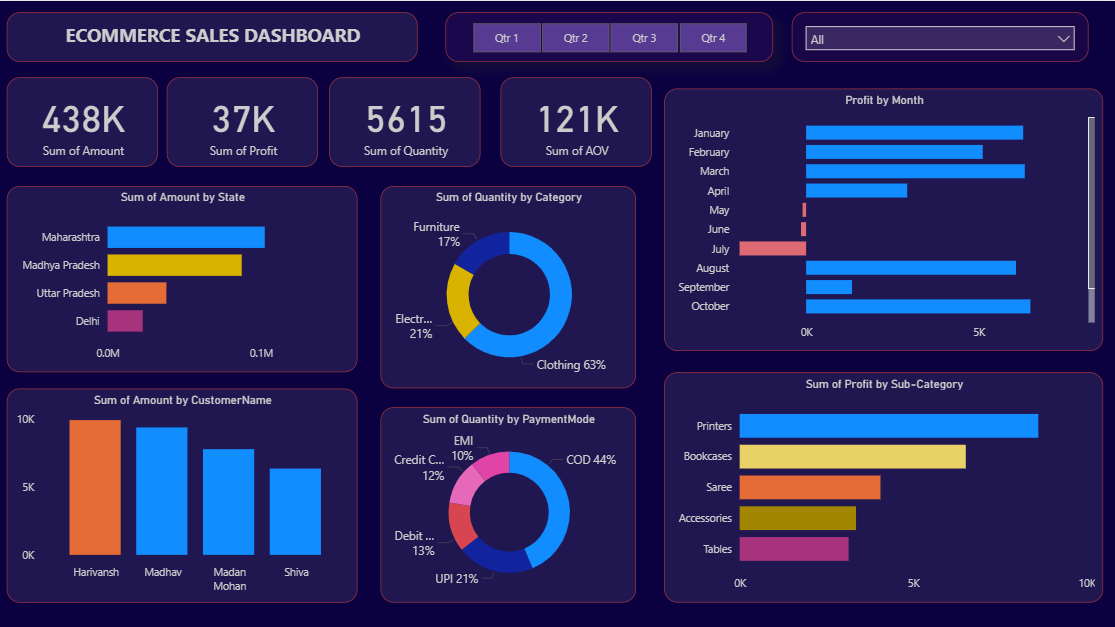

Layout of this report page (visuals, bound fields, positions):
{"tool":"powerbi","page":{"name":"Page 1","canvas":[1280,720],"ordinal":0},"visuals":[{"type":"textbox","box":[10.1,13.4,469.7,57],"z":0},{"type":"clusteredBarChart","title":"Profit by Month","fields":{"Category":["Orders.Order Date.Variation.Date Hierarchy.Month"],"Y":["Details.Profit"]},"box":[761.6,100.7,501.6,300.3],"z":1000},{"type":"barChart","fields":{"Category":["Details.Sub-Category"],"Y":["Details.Profit"]},"box":[761.6,424.4,501.6,263.4],"z":2000},{"type":"donutChart","fields":{"Category":["Details.Category"],"Y":["Details.Quantity"]},"box":[437.9,211.4,291.9,231.5],"z":3000},{"type":"donutChart","fields":{"Y":["Details.Quantity"],"Category":["Details.PaymentMode"]},"box":[437.9,464.7,291.9,223.1],"z":4000},{"type":"card","fields":{"Values":["Details.Amount"]},"box":[10.1,87.2,172.8,102.3],"z":5000},{"type":"card","fields":{"Values":["Details.Profit"]},"box":[192.9,87.2,172.8,102.3],"z":6000},{"type":"card","fields":{"Values":["Details.Quantity"]},"box":[379.1,87.2,172.8,102.3],"z":7000},{"type":"card","fields":{"Values":["Details.AOV"]},"box":[573.7,87.2,172.8,102.3],"z":8000},{"type":"barChart","fields":{"Category":["Orders.State"],"Y":["Details.Amount"]},"box":[10.1,211.4,400.9,213.1],"z":9000},{"type":"columnChart","fields":{"Category":["Orders.CustomerName"],"Y":["Details.Amount"]},"box":[10.1,442.9,400.9,244.9],"z":10000},{"type":"slicer","fields":{"Values":["Orders.Order Date.Variation.Date Hierarchy.Quarter"]},"box":[511.7,13.4,374.1,57],"z":11000},{"type":"slicer","fields":{"Values":["Orders.State"]},"box":[907.6,13.4,338.9,57],"z":12000}]}

Visuals, with their boxes in screenshot pixels (x1, y1, x2, y2), scaled from the page's 1280x720 canvas onto the 1115x627 screenshot:
textbox: select_region(9, 12, 418, 61)
"Profit by Month" clusteredBarChart: select_region(663, 88, 1100, 349)
barChart - Details.Sub-Category x Details.Profit: select_region(663, 370, 1100, 599)
donutChart - Details.Category x Details.Quantity: select_region(381, 184, 636, 386)
donutChart - Details.Quantity x Details.PaymentMode: select_region(381, 405, 636, 599)
card - Details.Amount: select_region(9, 76, 159, 165)
card - Details.Profit: select_region(168, 76, 319, 165)
card - Details.Quantity: select_region(330, 76, 481, 165)
card - Details.AOV: select_region(500, 76, 650, 165)
barChart - Orders.State x Details.Amount: select_region(9, 184, 358, 370)
columnChart - Orders.CustomerName x Details.Amount: select_region(9, 386, 358, 599)
slicer - Orders.Order Date.Variation.Date Hierarchy.Quarter: select_region(446, 12, 772, 61)
slicer - Orders.State: select_region(791, 12, 1086, 61)
